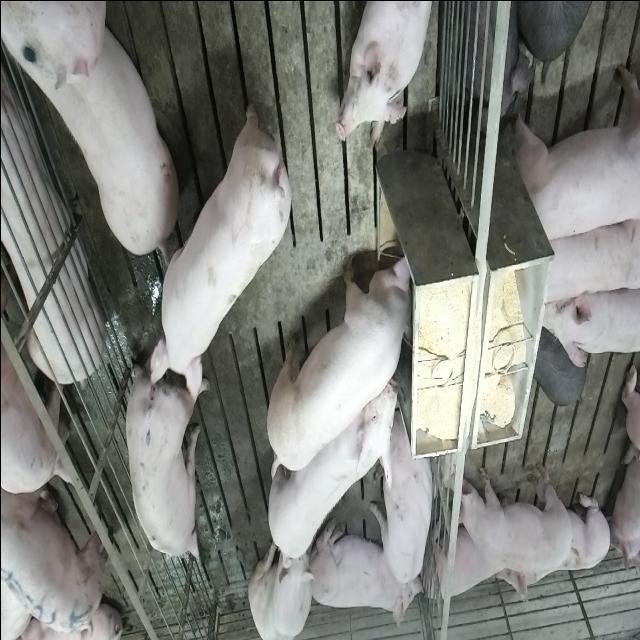Feeding: (269, 248, 422, 476)
Sitting: (248, 528, 316, 640)
Standing: (5, 7, 182, 264), (152, 91, 296, 397), (262, 367, 398, 560), (511, 59, 639, 248), (122, 346, 205, 564), (0, 472, 105, 640), (452, 463, 578, 568), (537, 211, 637, 310), (374, 424, 432, 584), (536, 280, 640, 366)
Sternal_lying: (0, 16, 101, 402), (336, 0, 436, 144), (496, 483, 608, 610), (309, 512, 422, 628), (427, 519, 503, 607)
